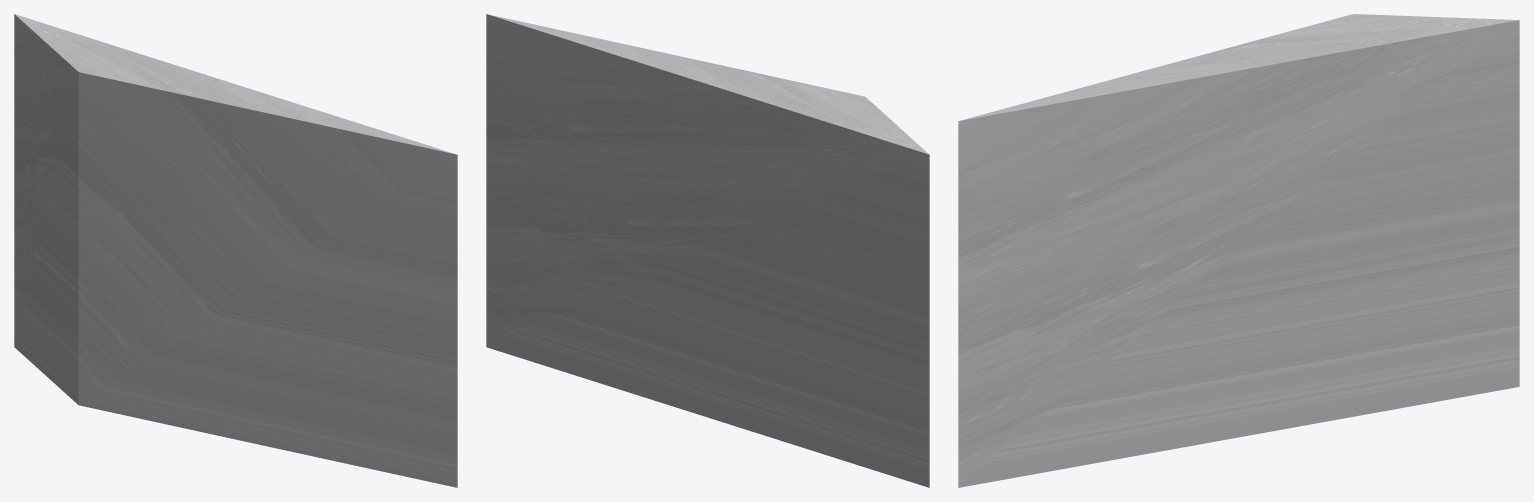
The model's file is blanc4.FBX.
3 views of the same model, side by side, from view 1: azimuth 30°, elevation 25°; view 2: azimuth 210°, elevation 25°; view 3: azimuth 270°, elevation 25° (orthographic). The views are drawn at different scales.
Parts seen in each view (by area): view 1: Ligne036; view 2: Ligne036; view 3: Ligne036.
Boxes of the visible parts, x1,y1,x2,y2 form: Ligne036: (14,14,457,487); Ligne036: (486,14,929,487); Ligne036: (958,14,1519,487).
Size of the model in its own units: 3.64 by 5.8 by 8.05.
Materials: 1 (1 with a texture image).
